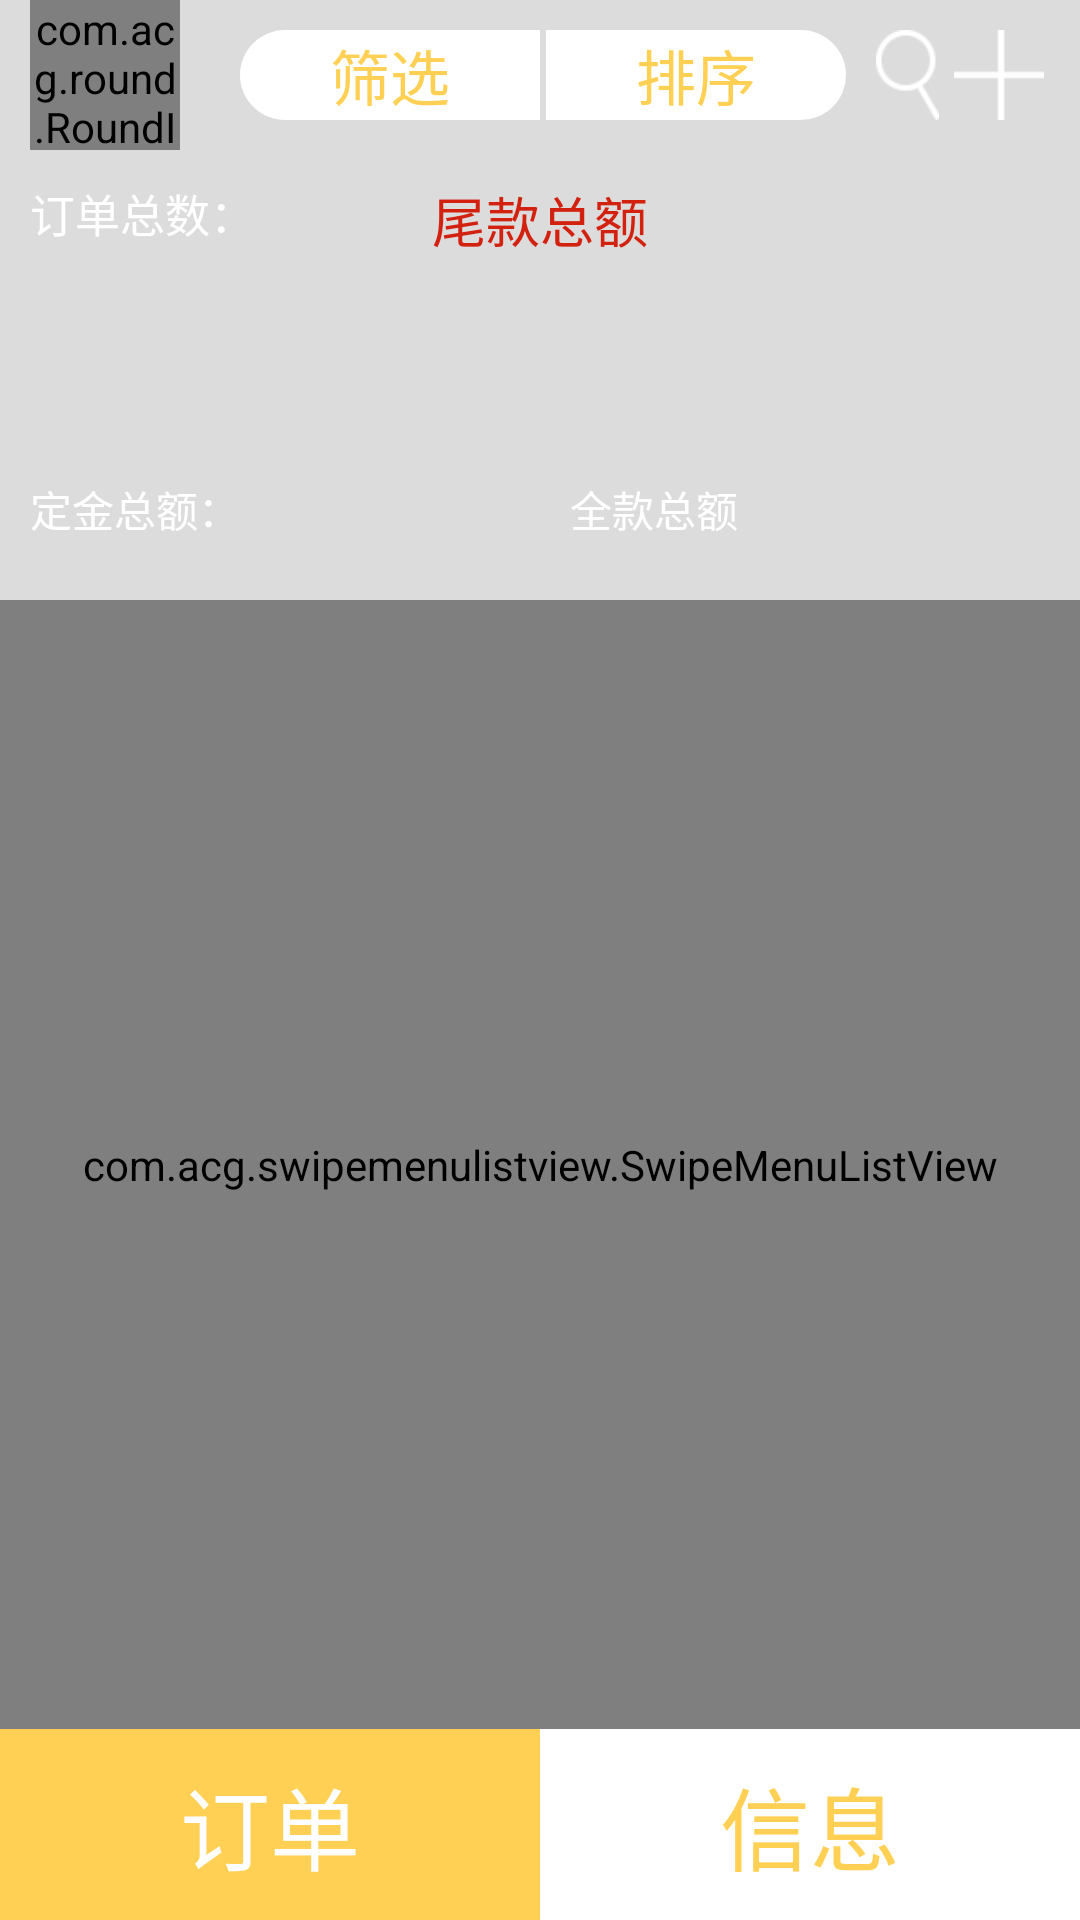

Icons on this 1080 × 1920 Android screen, each with its box as (x1=x1, y1=y1, x2=x2, y2=y2):
addicon: (x1=954, y1=30, x2=1044, y2=120)
searchicon: (x1=876, y1=30, x2=939, y2=120)
